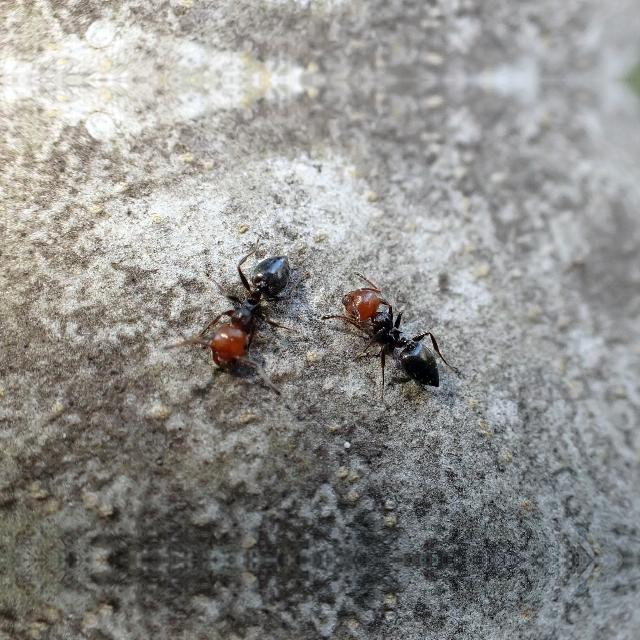Crematogaster: (340, 269, 456, 396), (186, 250, 300, 376)
